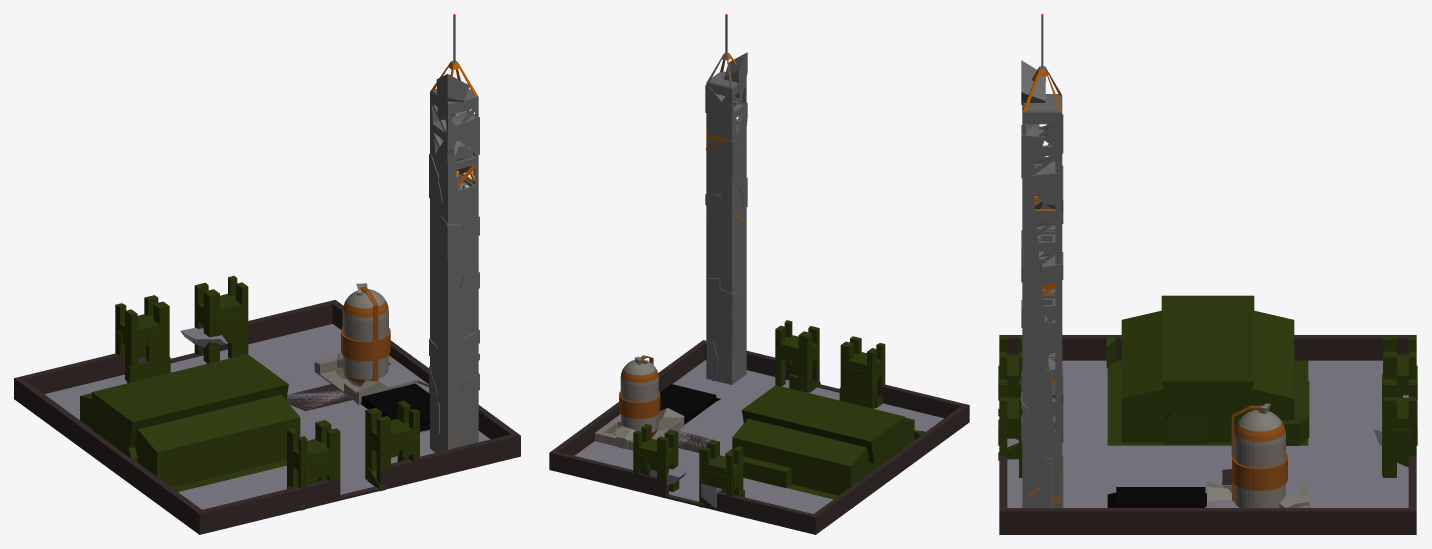
Rendered from MilitaryBase.fbx.
3 views of the same model, side by side, from view 1: azimuth 30°, elevation 25°; view 2: azimuth 150°, elevation 25°; view 3: azimuth 270°, elevation 25° (orthographic). The views are drawn at different scales.
Parts seen in each view (by area): view 1: Base, Base_cell.025, Antenna, Barracks, Silo, Barracks_cell.006, Tower3, Barracks_cell.007, Tower2, Tower4, Tower1, Barracks_cell.018 (+12 smaller); view 2: Base, Antenna, Base_cell.025, Barracks, Silo, Barracks_cell.018, Barracks_cell.019, Barracks_cell.006, Barracks_cell.020, Tower2, Tower1, Tower4 (+10 smaller); view 3: Base, Base_cell.025, Antenna, Barracks, Silo, Barracks_cell.007, Barracks_cell.019, Base_cell.101, Barracks_cell.018, Barracks_cell.006, Barracks_cell.021, Base_cell.032 (+17 smaller).
Part boxes in pixels (x1=…): Base: x1=22, y1=301, x2=506, y2=534; Base_cell.025: x1=14, y1=305, x2=520, y2=534; Antenna: x1=430, y1=14, x2=478, y2=452; Barracks: x1=80, y1=393, x2=300, y2=488; Silo: x1=315, y1=287, x2=421, y2=401; Barracks_cell.006: x1=112, y1=388, x2=210, y2=447; Tower3: x1=115, y1=295, x2=169, y2=379; Barracks_cell.007: x1=190, y1=369, x2=288, y2=411; Tower2: x1=365, y1=401, x2=419, y2=479; Tower4: x1=194, y1=276, x2=248, y2=361; Tower1: x1=287, y1=420, x2=340, y2=488; Barracks_cell.018: x1=91, y1=373, x2=189, y2=435; Base: x1=555, y1=340, x2=968, y2=528; Antenna: x1=706, y1=14, x2=746, y2=384; Base_cell.025: x1=558, y1=342, x2=969, y2=534; Barracks: x1=732, y1=417, x2=914, y2=496; Silo: x1=594, y1=355, x2=681, y2=450; Barracks_cell.018: x1=806, y1=413, x2=887, y2=462; Barracks_cell.019: x1=741, y1=397, x2=822, y2=432; Barracks_cell.006: x1=824, y1=401, x2=904, y2=452; Barracks_cell.020: x1=791, y1=433, x2=849, y2=481; Tower2: x1=775, y1=320, x2=819, y2=392; Tower1: x1=840, y1=336, x2=885, y2=408; Tower4: x1=633, y1=425, x2=678, y2=491; Base: x1=999, y1=335, x2=1416, y2=534; Base_cell.025: x1=999, y1=335, x2=1408, y2=534; Antenna: x1=1022, y1=14, x2=1062, y2=507; Barracks: x1=1107, y1=310, x2=1308, y2=445; Silo: x1=1208, y1=405, x2=1308, y2=507; Barracks_cell.007: x1=1161, y1=338, x2=1207, y2=413; Barracks_cell.019: x1=1208, y1=338, x2=1254, y2=413; Base_cell.101: x1=1309, y1=383, x2=1381, y2=421; Barracks_cell.018: x1=1208, y1=295, x2=1254, y2=338; Barracks_cell.006: x1=1161, y1=295, x2=1207, y2=338; Barracks_cell.021: x1=1246, y1=350, x2=1294, y2=420; Base_cell.032: x1=1333, y1=468, x2=1408, y2=504.
Size of the model in its own units: 2082 by 2725 by 2092.
